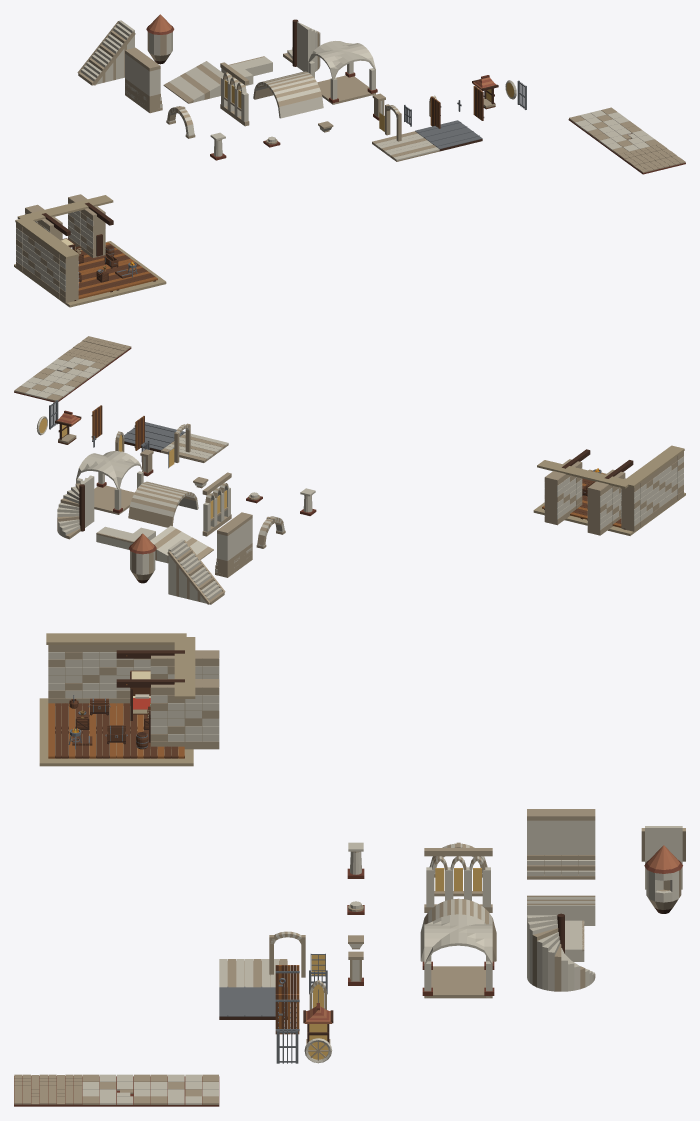
Rendered from FreeKit_Keep_Chamber.fbx.
3 views of the same model, one above another, from view 1: azimuth 30°, elevation 25°; view 2: azimuth 150°, elevation 25°; view 3: azimuth 270°, elevation 25° (orthographic). The views are drawn at different scales.
Visible parts, largest first — view 1: CellarBay__Vaulted_48, BarrelVault__Plain_47, StairStraight__Run_53, CurtainBase__Batter_49, Curtain__Plain_8, Ramp__Plain_50, Curtain__Plain_6, Clerestory__Window_46, StairSpiral__Half_52, FloorCobble__Rutted_27, FloorWalk__Deck_28, LeadFlat__Deck_29 (+13 smaller); view 2: CellarBay__Vaulted_48, StairStraight__Run_53, BarrelVault__Plain_47, CurtainBase__Batter_49, Curtain__Plain_6, StairSpiral__Half_52, Curtain__Plain_9, Curtain__Plain_4, Clerestory__Window_46, FloorFlag__Plain_26, FloorCobble__Rutted_27, FloorFlag__Cracked_25 (+11 smaller); view 3: CurtainBase__Batter_49, CellarBay__Vaulted_48, Curtain__Plain_6, Curtain__Plain_8, StairSpiral__Half_52, Clerestory__Window_46, Demo room foundation, FloorFlag__Plain_26, FloorFlag__Cracked_25, FloorCobble__Rutted_27, LeadFlat__Deck_29, Bartizan__Round_54 (+16 smaller).
Part boxes in pixels (bbox=[...]): CellarBay__Vaulted_48: bbox=[308, 41, 377, 104]; BarrelVault__Plain_47: bbox=[253, 71, 323, 118]; StairStraight__Run_53: bbox=[77, 20, 135, 85]; CurtainBase__Batter_49: bbox=[125, 47, 162, 113]; Curtain__Plain_8: bbox=[40, 241, 78, 302]; Ramp__Plain_50: bbox=[163, 61, 223, 103]; Curtain__Plain_6: bbox=[68, 194, 105, 257]; Clerestory__Window_46: bbox=[220, 62, 249, 126]; StairSpiral__Half_52: bbox=[283, 19, 320, 71]; FloorCobble__Rutted_27: bbox=[618, 144, 685, 174]; FloorWalk__Deck_28: bbox=[372, 131, 439, 161]; LeadFlat__Deck_29: bbox=[415, 120, 482, 151]; CellarBay__Vaulted_48: bbox=[76, 451, 143, 514]; StairStraight__Run_53: bbox=[167, 539, 225, 604]; BarrelVault__Plain_47: bbox=[128, 481, 198, 527]; CurtainBase__Batter_49: bbox=[215, 512, 252, 577]; Curtain__Plain_6: bbox=[544, 459, 582, 525]; StairSpiral__Half_52: bbox=[57, 475, 94, 539]; Curtain__Plain_9: bbox=[621, 469, 659, 531]; Curtain__Plain_4: bbox=[587, 469, 625, 535]; Clerestory__Window_46: bbox=[202, 472, 231, 536]; FloorFlag__Plain_26: bbox=[14, 372, 81, 402]; FloorCobble__Rutted_27: bbox=[64, 336, 131, 366]; FloorFlag__Cracked_25: bbox=[39, 354, 106, 384]; CurtainBase__Batter_49: bbox=[527, 809, 595, 879]; CellarBay__Vaulted_48: bbox=[422, 914, 494, 998]; Curtain__Plain_6: bbox=[150, 679, 219, 749]; Curtain__Plain_8: bbox=[48, 645, 116, 705]; StairSpiral__Half_52: bbox=[527, 913, 595, 991]; Clerestory__Window_46: bbox=[424, 848, 492, 912]; Demo room foundation: bbox=[39, 698, 193, 766]; FloorFlag__Plain_26: bbox=[150, 1074, 219, 1106]; FloorFlag__Cracked_25: bbox=[82, 1074, 150, 1106]; FloorCobble__Rutted_27: bbox=[14, 1074, 82, 1106]; LeadFlat__Deck_29: bbox=[219, 986, 287, 1019]; Bartizan__Round_54: bbox=[644, 845, 682, 913].
Size of what is drawn, in the model's own units: 5661 by 445 by 3930.
48 materials, 47 textured.
